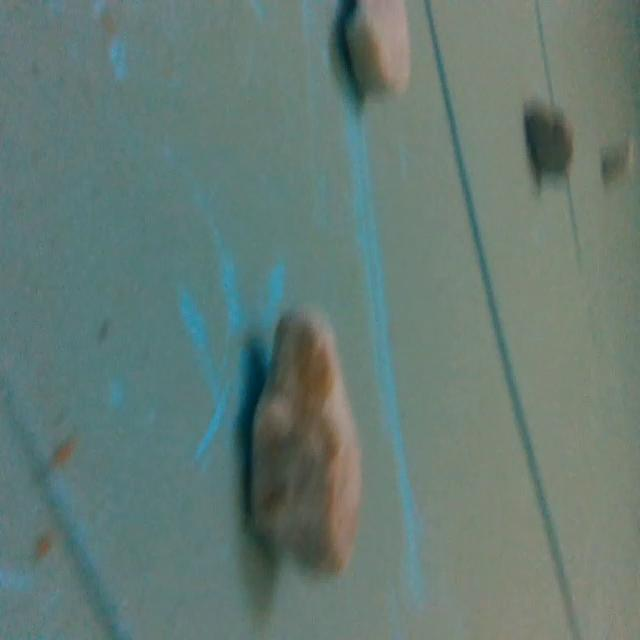rock: (244, 305, 374, 580), (329, 1, 414, 102), (518, 88, 575, 182)
